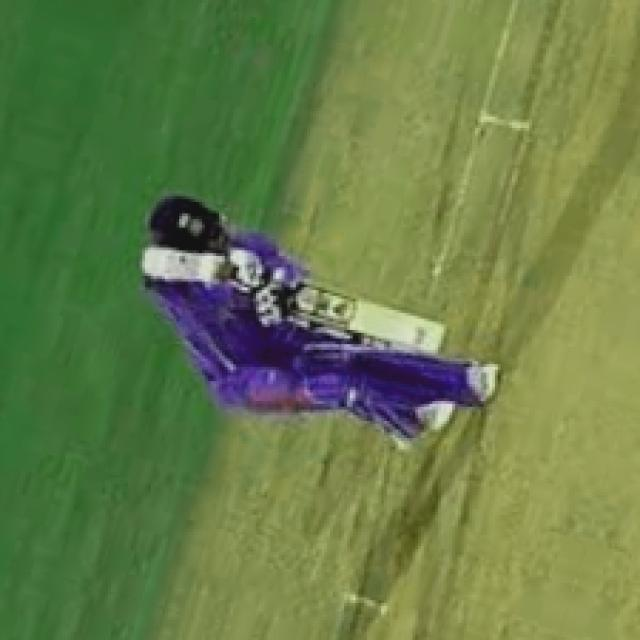toe: (387, 301, 464, 360)
